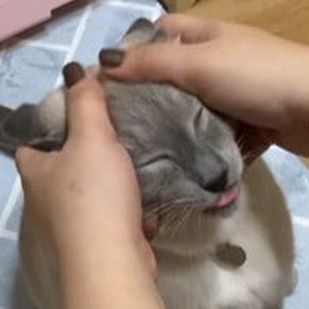cat: (8, 17, 255, 261)
